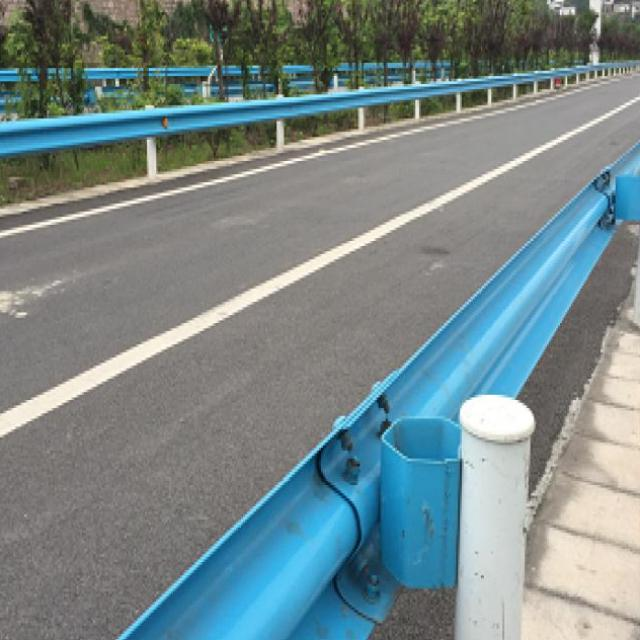Guard rail: (117, 143, 640, 640), (0, 67, 603, 158)
